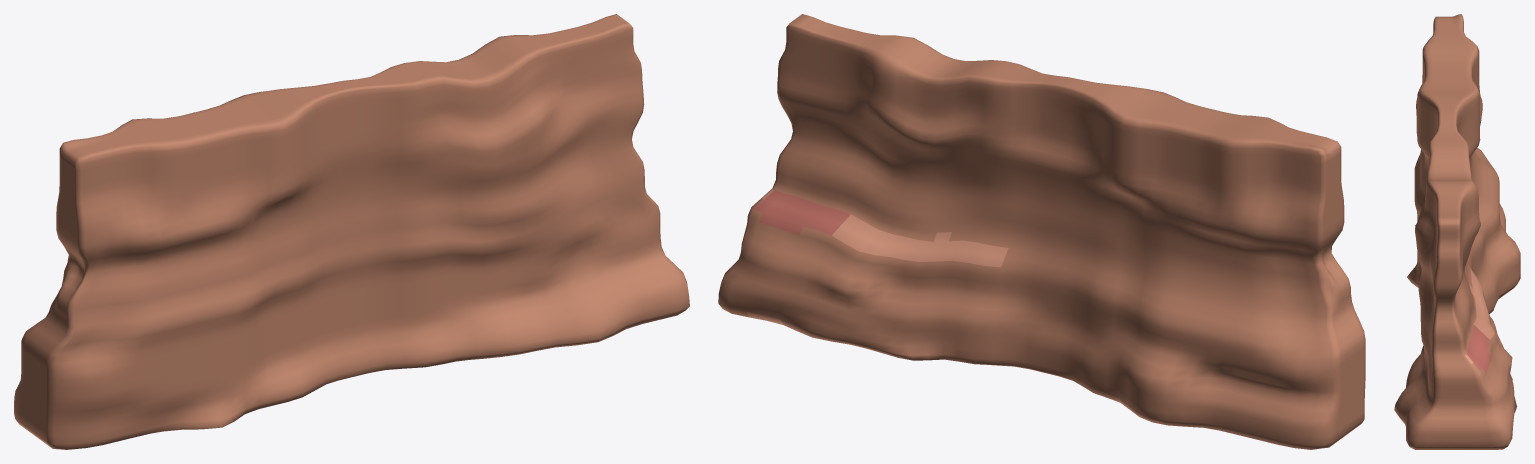
File: Canyon1.fbx
The picture shows the model from 3 angles, left to right: view 1: azimuth 30°, elevation 25°; view 2: azimuth 150°, elevation 25°; view 3: azimuth 270°, elevation 25°; orthographic projection. The views are drawn at different scales.
Parts seen in each view (by area): view 1: Canyon1; view 2: Canyon1; view 3: Canyon1.
Boxes of the visible parts, x1,y1,x2,y2 form: Canyon1: (14, 14, 689, 449); Canyon1: (718, 14, 1365, 449); Canyon1: (1394, 14, 1520, 449).
Size of the model in its own units: 410 by 182 by 95.11.
